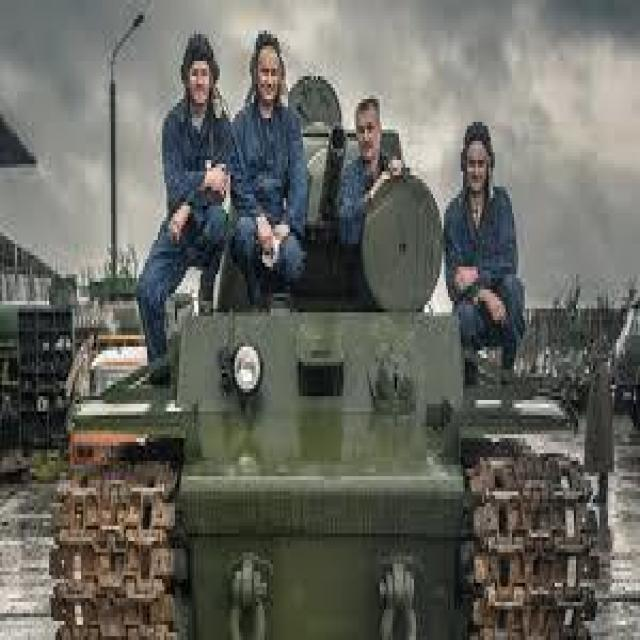Tanks: (119, 128, 527, 615)
